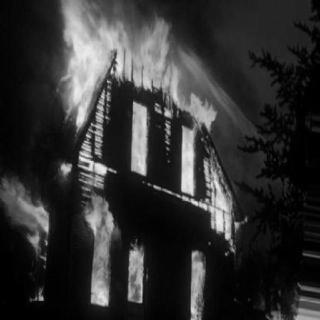Fire: (54, 1, 250, 312), (2, 165, 50, 301)
